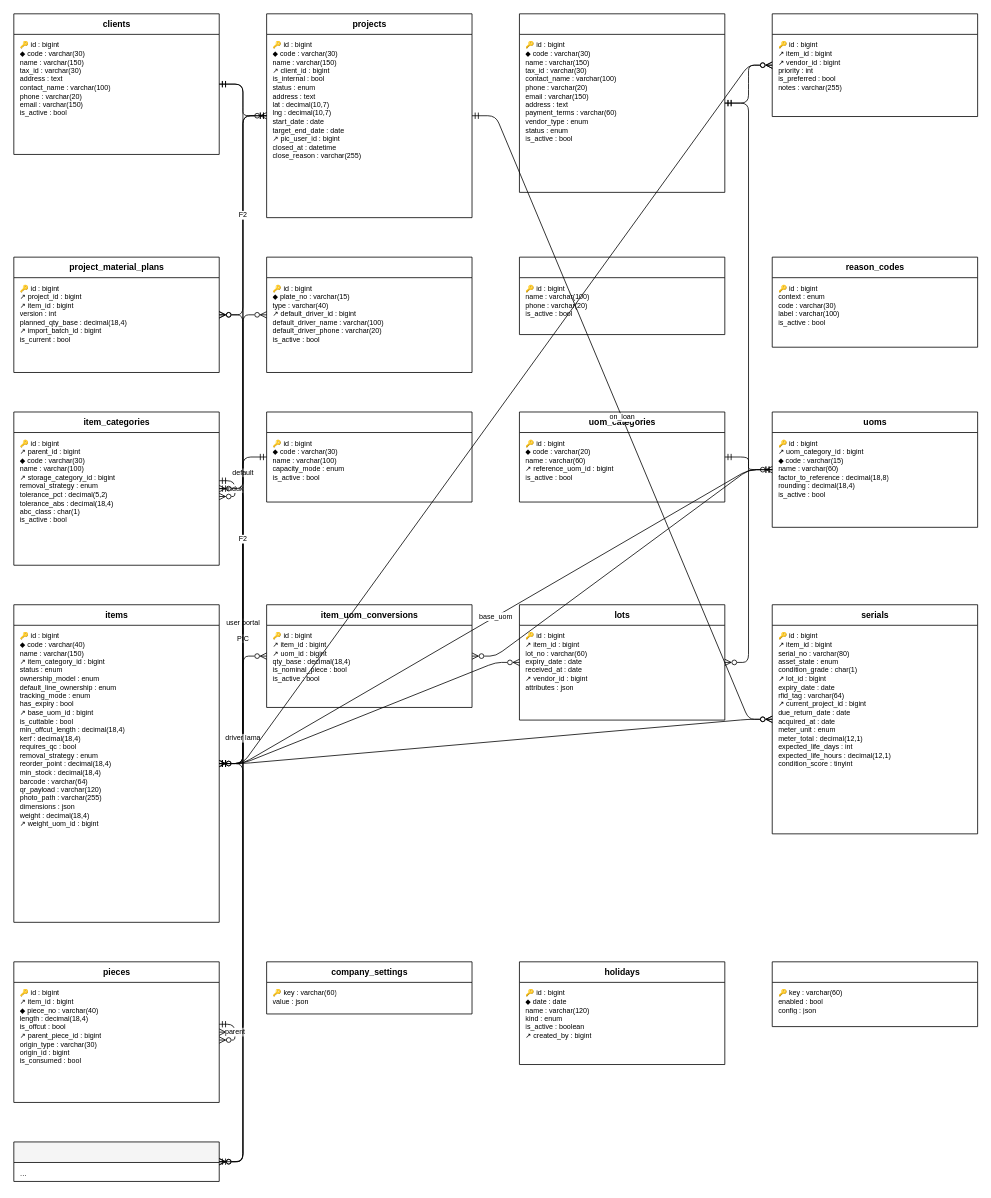
Image size: 991x1198. Some labels were removed from this diagram. The box of each missing label's shape, as (x1, y1, x2, y2) in pixels:
carriers: (519, 256, 725, 335)
feature_settings: (771, 961, 978, 1027)
item_vendors: (771, 13, 978, 117)
storage_categories: (266, 411, 472, 502)
users: (13, 1141, 219, 1181)
vehicles: (266, 256, 472, 372)
vendors: (519, 13, 725, 192)
